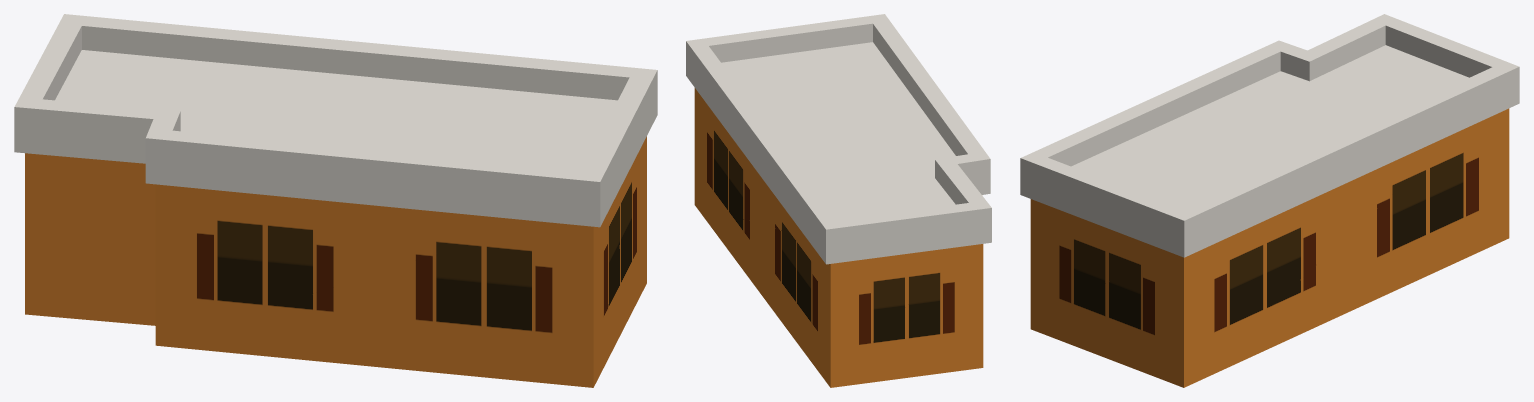
Rendered from msb_oranjestad_m16_3.glb.
3 renders of one model, left to right at view 1: azimuth 30°, elevation 25°; view 2: azimuth 150°, elevation 25°; view 3: azimuth 270°, elevation 25°, orthographic. The views are drawn at different scales.
Visible parts, largest first — view 1: msb_oranjestad_m16_3_lod0; view 2: msb_oranjestad_m16_3_lod0; view 3: msb_oranjestad_m16_3_lod0.
Boxes of the visible parts, left/top/right/bottom form: msb_oranjestad_m16_3_lod0: left=14, top=14, right=657, bottom=387; msb_oranjestad_m16_3_lod0: left=686, top=14, right=991, bottom=387; msb_oranjestad_m16_3_lod0: left=1020, top=14, right=1519, bottom=387.
Size of what is drawn, in the model's own units: 10.23 by 3.95 by 10.42.
3 materials, 1 textured.
